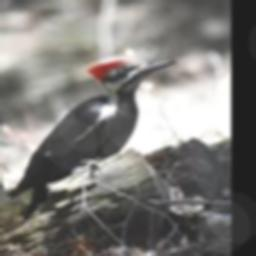Woodpecker: (7, 57, 175, 216)
